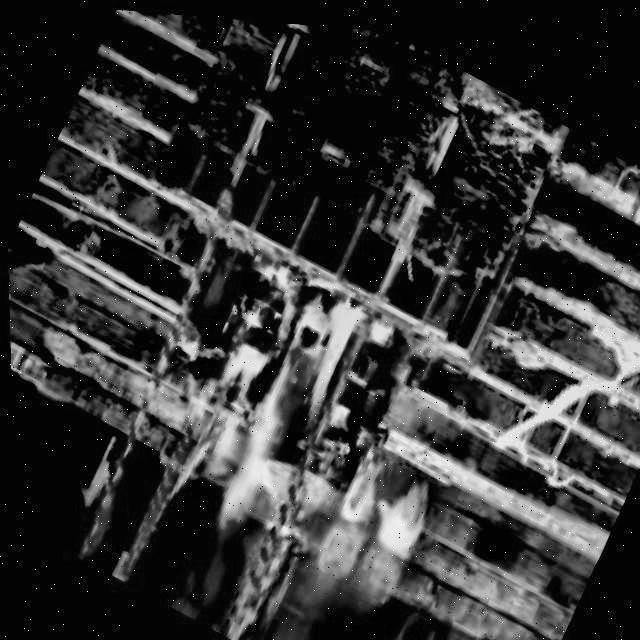Fire: (156, 250, 391, 561)
